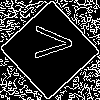V: (25, 25, 73, 60)
